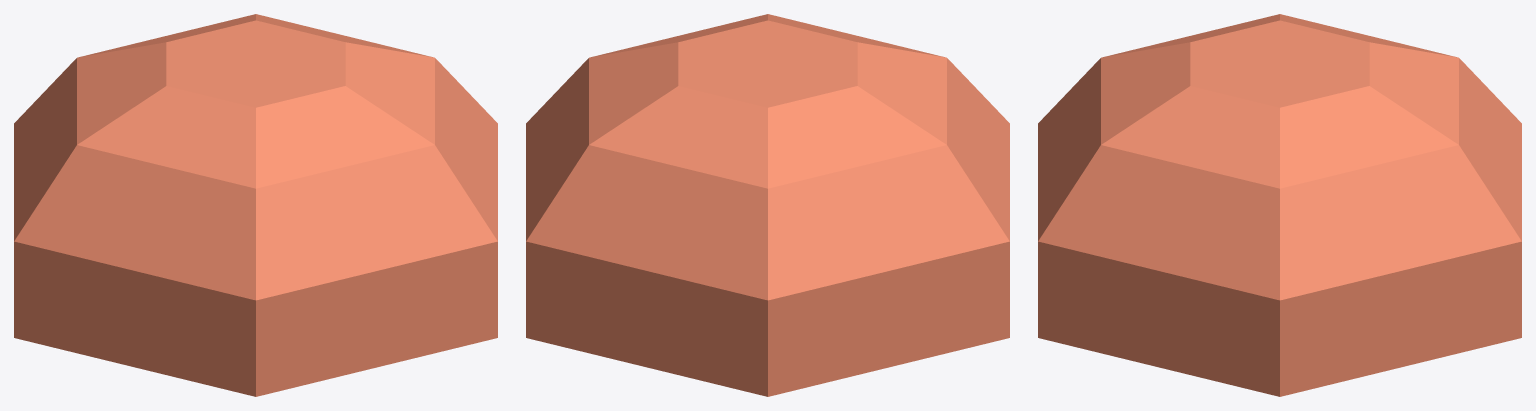
The model's file is k-meteor-half.glb.
The picture shows the model from 3 angles, left to right: view 1: azimuth 30°, elevation 25°; view 2: azimuth 150°, elevation 25°; view 3: azimuth 270°, elevation 25°; orthographic projection.
Visible parts, largest first — view 1: meteor_half; view 2: meteor_half; view 3: meteor_half.
Part boxes in pixels (bbox=[...]): meteor_half: bbox=[14, 14, 497, 396]; meteor_half: bbox=[526, 14, 1009, 396]; meteor_half: bbox=[1038, 14, 1521, 396].
Size of the model in its own units: 0.866 by 0.3675 by 0.75.
